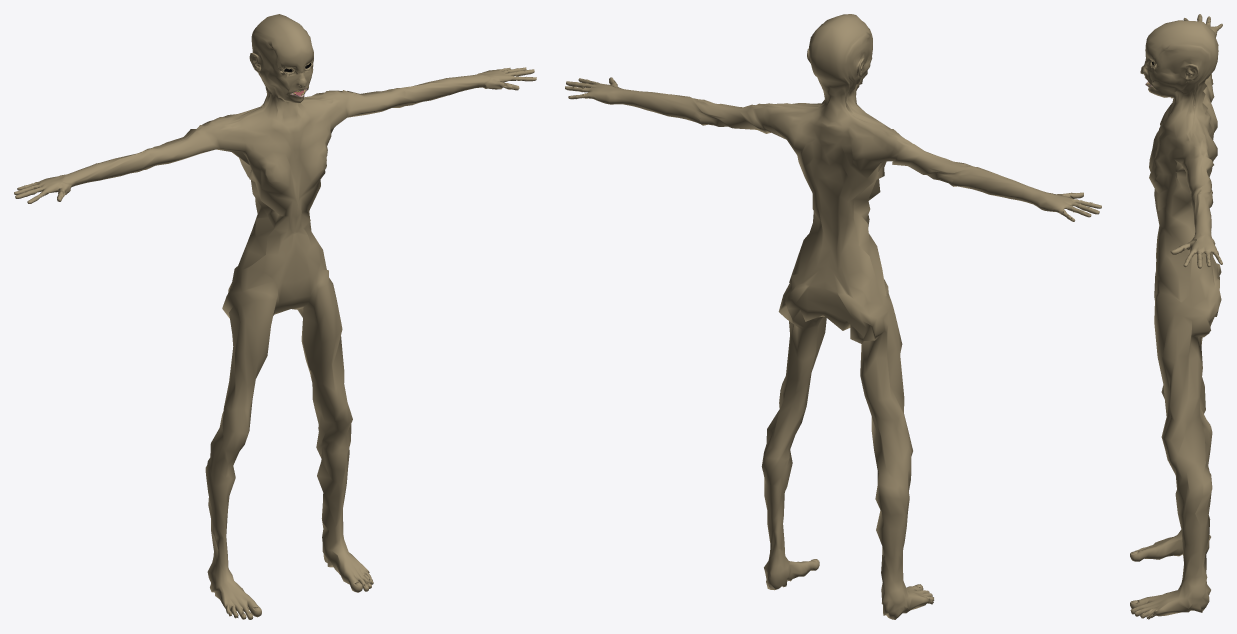
File: corpse.fbx
3 views of the same model, side by side, from view 1: azimuth 30°, elevation 25°; view 2: azimuth 150°, elevation 25°; view 3: azimuth 270°, elevation 25° (orthographic). The views are drawn at different scales.
Visible parts, largest first — view 1: human; view 2: human; view 3: human.
Boxes of the visible parts, bbox=[...] form: human: bbox=[14, 14, 536, 619]; human: bbox=[565, 14, 1101, 619]; human: bbox=[1130, 14, 1222, 619].
Bounding box in the file's own units: 5.07 × 5.3 × 0.7895.
